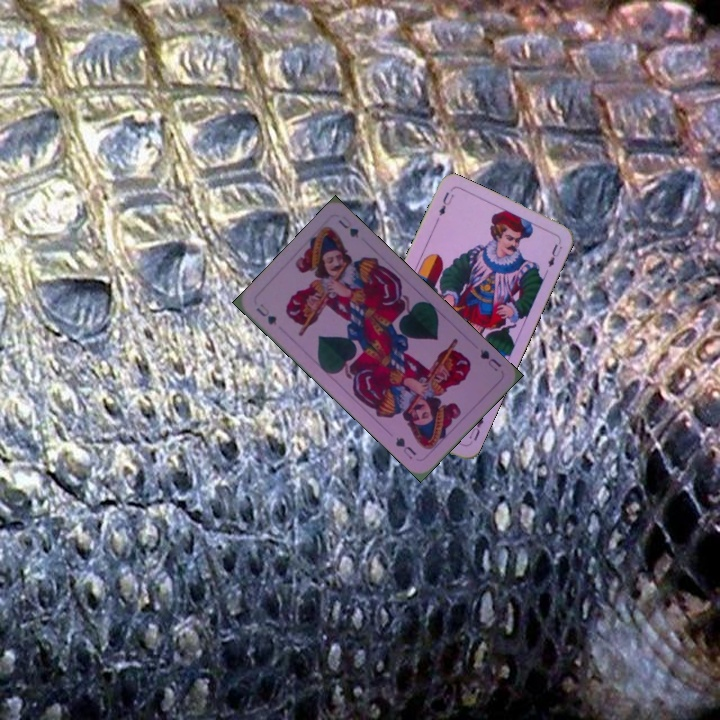EU: (431, 188, 456, 226), (464, 410, 488, 448)
GU: (476, 345, 504, 374), (252, 300, 279, 328)
